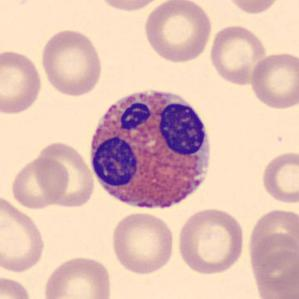Eosinophil: (84, 80, 219, 218)
RBC: (175, 205, 247, 276), (39, 27, 105, 97), (141, 0, 212, 64), (109, 211, 176, 276), (36, 141, 98, 209), (0, 192, 47, 275), (208, 23, 268, 86), (40, 252, 114, 299), (247, 233, 298, 299), (9, 155, 70, 210), (250, 208, 299, 272), (0, 47, 44, 117), (248, 50, 298, 111), (246, 251, 299, 299), (259, 149, 299, 205), (94, 0, 168, 13), (221, 0, 283, 15), (0, 274, 35, 299)
